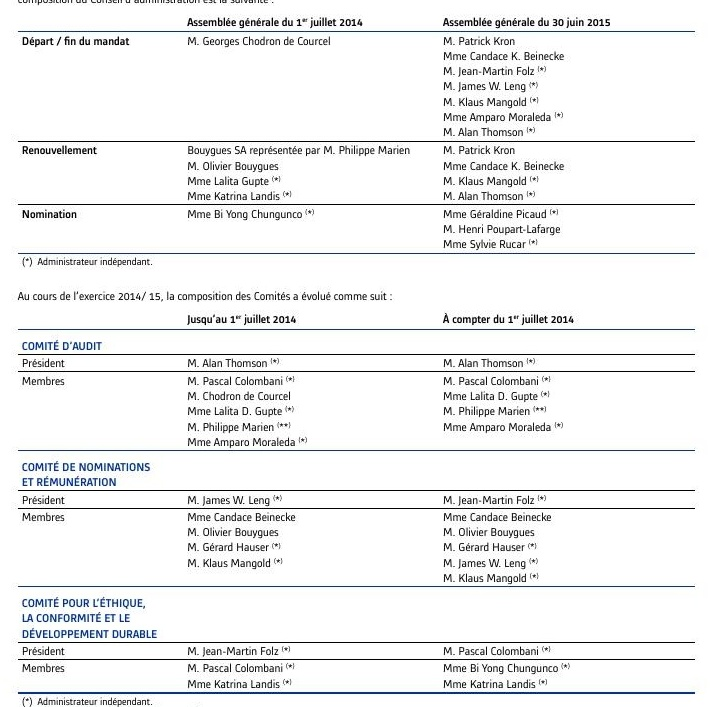table: (0, 0, 714, 707)
